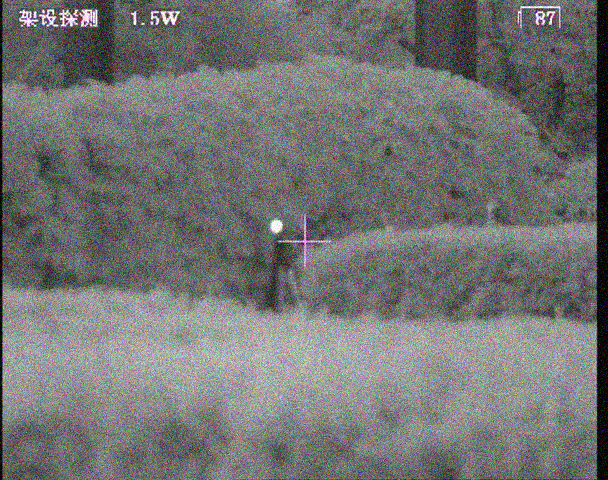my: (268, 218, 284, 234)
